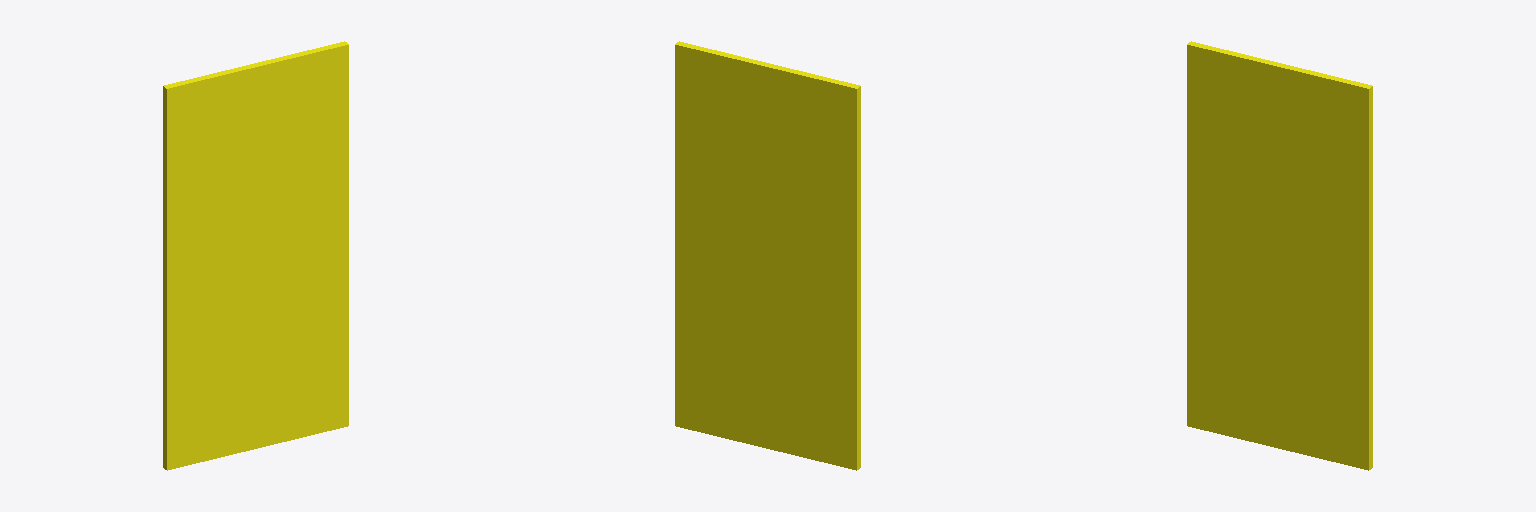
3 views of the same model, side by side, from view 1: azimuth 30°, elevation 25°; view 2: azimuth 150°, elevation 25°; view 3: azimuth 330°, elevation 25° (orthographic).
Visible parts, largest first — view 1: object 1; view 2: object 1; view 3: object 1.
Part boxes in pixels (x1,y1,x2,y2): object 1: (163, 41, 348, 470); object 1: (675, 41, 860, 470); object 1: (1187, 41, 1372, 470).
Bounding box in the file's own units: 2.5 × 5 × 0.1.
1 materials, 1 textured.